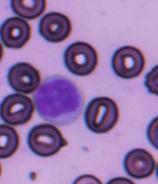L: (33, 74, 84, 125)
